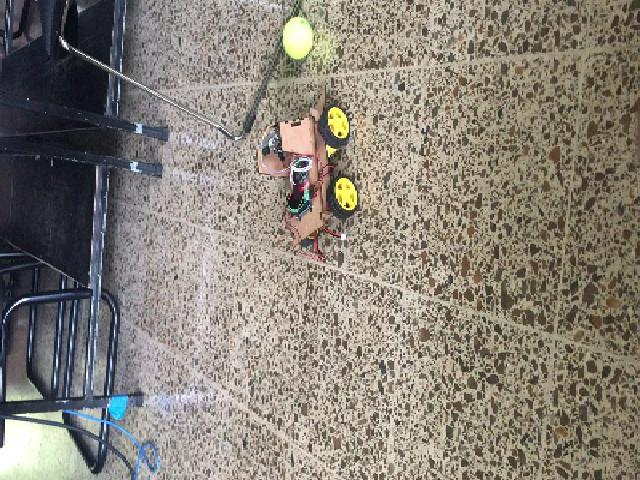Ball: (282, 17, 314, 59)
Robot: (256, 83, 358, 251)
